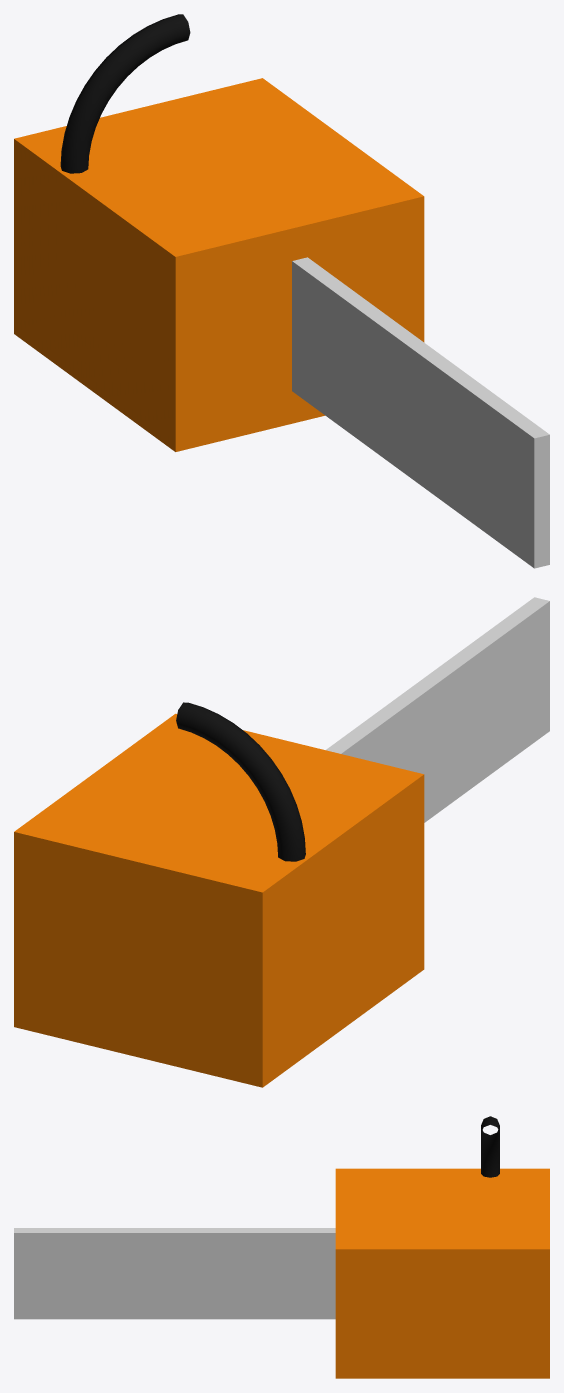
The model's file is chainsaw_engine.glb.
The picture shows the model from 3 angles, top to bottom: view 1: azimuth 30°, elevation 25°; view 2: azimuth 150°, elevation 25°; view 3: azimuth 270°, elevation 25°; orthographic projection. The views are drawn at different scales.
Visible parts, largest first — view 1: model_chainsaw_engine; view 2: model_chainsaw_engine; view 3: model_chainsaw_engine.
Boxes of the visible parts, box(x1,y1,x2,y2) form: model_chainsaw_engine: box(14, 14, 549, 568); model_chainsaw_engine: box(14, 597, 549, 1087); model_chainsaw_engine: box(14, 1116, 549, 1378).
Size of the model in its own units: 1.6 by 1.98 by 4.5.
